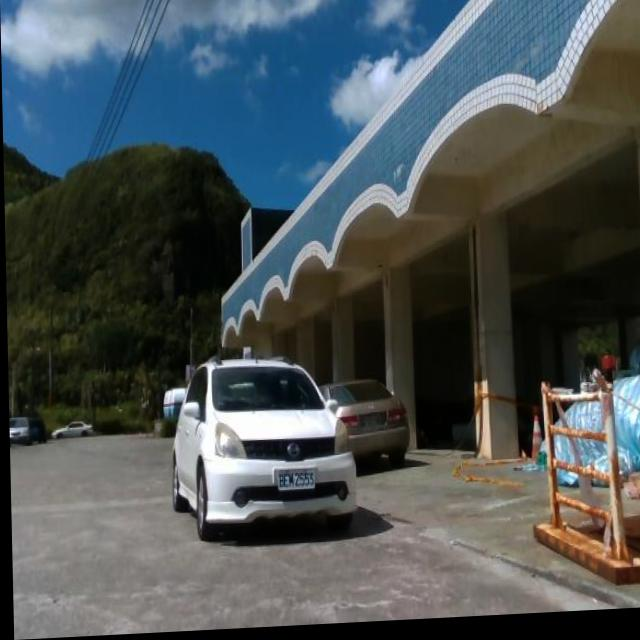pollute: (532, 347, 640, 501)
